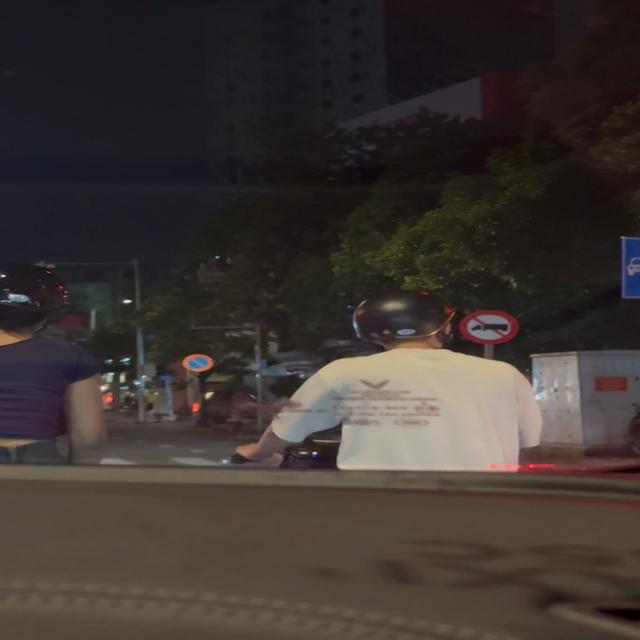Bien bao cam do xe: (181, 353, 218, 374)
Bien bao cam xe so-mi ro-mooc: (458, 309, 526, 347)
